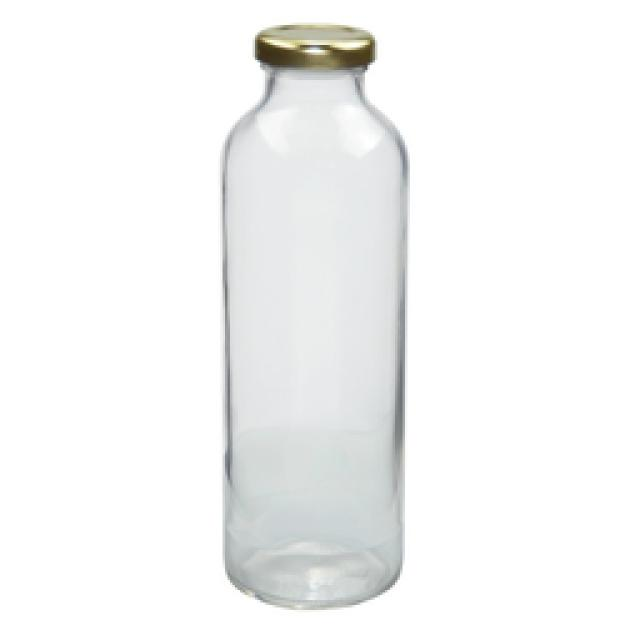glass_beverage_bottles: (218, 20, 410, 610)
